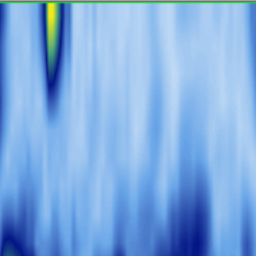defect: (156, 188, 210, 256), (42, 1, 64, 109), (1, 204, 40, 256)
